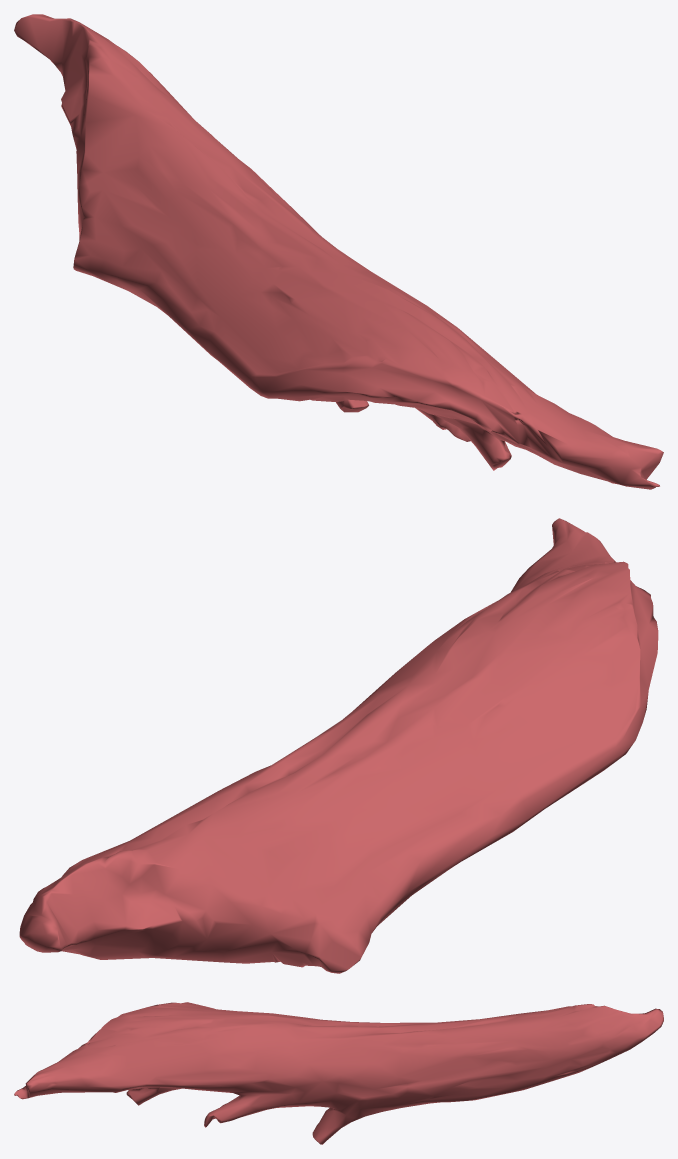
The picture shows the model from 3 angles, top to bottom: view 1: azimuth 30°, elevation 25°; view 2: azimuth 150°, elevation 25°; view 3: azimuth 270°, elevation 25°; orthographic projection. The views are drawn at different scales.
Parts seen in each view (by area): view 1: 右侧腰方肌; view 2: 右侧腰方肌; view 3: 右侧腰方肌.
Boxes of the visible parts, left/top/right/bottom form: 右侧腰方肌: left=14, top=14, right=663, bottom=489; 右侧腰方肌: left=19, top=518, right=658, bottom=973; 右侧腰方肌: left=14, top=1002, right=663, bottom=1144.
Size of the model in its own units: 0.0758 by 0.0666 by 0.3041.
